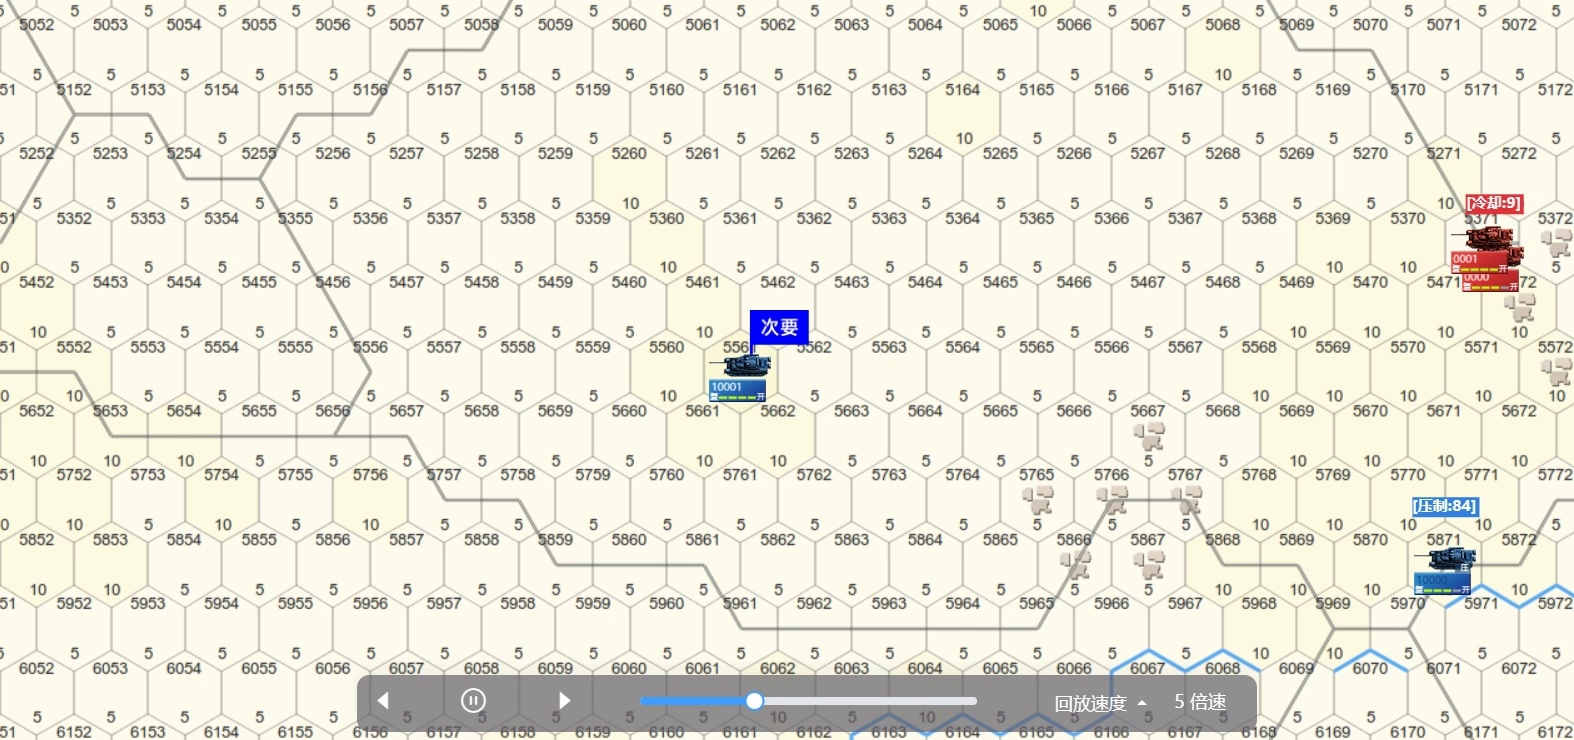blue_tank: (706, 356, 771, 399), (1423, 547, 1475, 594)
red_tank: (1465, 252, 1523, 295), (1458, 234, 1515, 270)
